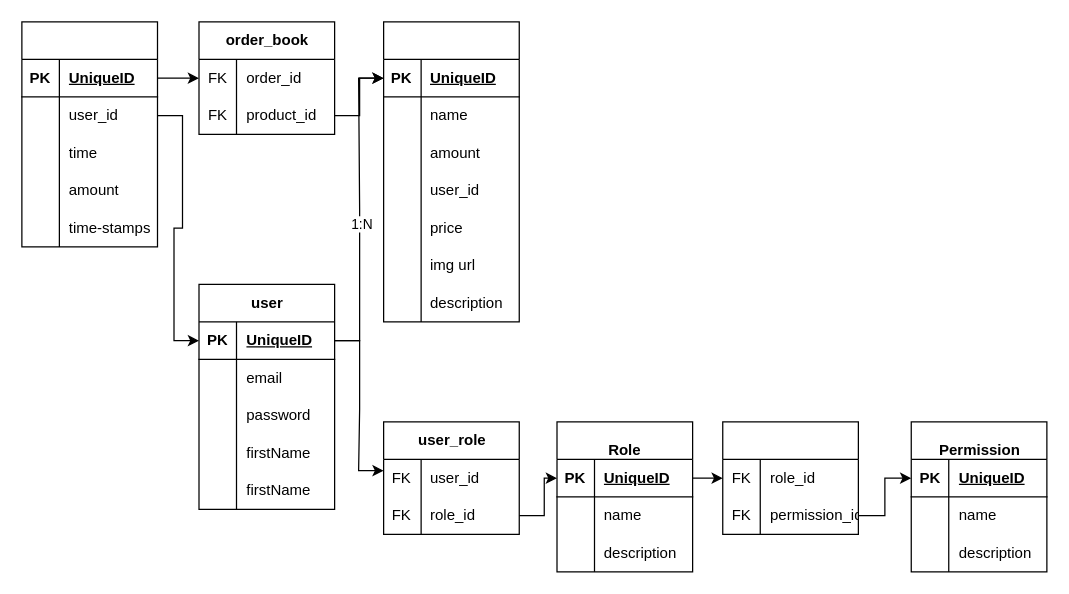
Image size: 1069x594. Some labels were removed from this diagram. Here are the shapes that lost their labels. From the top down, the box of each, then its label:
(21, 21, 158, 247): Order
(382, 21, 519, 322): Product
(722, 421, 858, 534): Role_Permission
